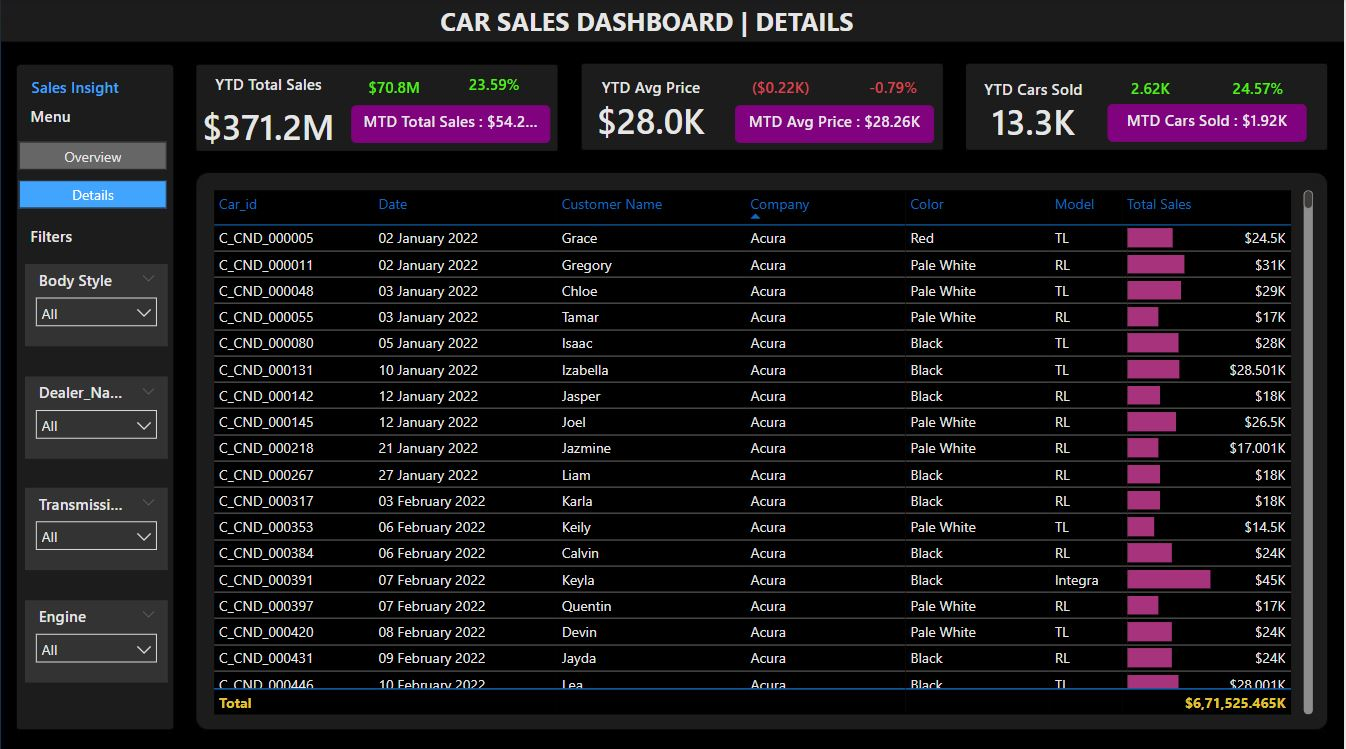

What the dashboard file says about the page in this screenshot:
{"tool":"powerbi","page":{"name":"Details","canvas":[1280,720],"ordinal":1},"visuals":[{"type":"card","title":"YTD Total Sales","fields":{"Values":["car_data.YTD Total Sales"]},"box":[172.9,70,166,83.7],"z":0},{"type":"card","fields":{"Values":["car_data.Sales Difference"]},"box":[334.8,68.6,82.3,34.3],"z":1000},{"type":"card","fields":{"Values":["car_data.YOY Sales Growth"]},"box":[429.5,67.2,82.3,34.3],"z":2000},{"type":"card","fields":{"Values":["car_data.MTD KPI"]},"box":[334.8,101.5,189.4,35.7],"z":3000},{"type":"card","title":"YTD Avg Price","fields":{"Values":["car_data.YTD Avg Price"]},"box":[536.5,74.1,166,64.5],"z":4000},{"type":"card","fields":{"Values":["car_data.Avg Price Difference"]},"box":[702.6,68.6,82.3,34.3],"z":5000},{"type":"card","fields":{"Values":["car_data.YOY Avg Price Growth"]},"box":[809.6,68.6,82.3,34.3],"z":6000},{"type":"card","fields":{"Values":["car_data.MTD Avg Price KPI"]},"box":[699.8,101.5,189.4,35.7],"z":7000},{"type":"card","title":"YTD Cars Sold","fields":{"Values":["car_data.YTD Cars Sold"]},"box":[901.5,75.5,166,64.5],"z":8000},{"type":"card","fields":{"Values":["car_data.Cars Sold Difference"]},"box":[1055.2,70,82.3,34.3],"z":9000},{"type":"card","fields":{"Values":["car_data.YOY Cars Sold Growth"]},"box":[1156.8,70,82.3,34.3],"z":10000},{"type":"card","fields":{"Values":["car_data.MTD Cars Sold KPI"]},"box":[1055.2,100.2,189.4,35.7],"z":11000},{"type":"textbox","box":[414.4,0,450.1,46.7],"z":12000},{"type":"slicer","fields":{"Values":["car_data.Body Style"]},"box":[23.3,252.5,135.8,78.2],"z":13000},{"type":"slicer","fields":{"Values":["car_data.Dealer_Name"]},"box":[23.3,359.5,135.8,78.2],"z":14000},{"type":"slicer","fields":{"Values":["car_data.Transmission"]},"box":[23.3,465.2,135.8,78.2],"z":15000},{"type":"slicer","fields":{"Values":["car_data.Engine"]},"box":[23.3,572.2,135.8,78.2],"z":16000},{"type":"textbox","title":"Filters","box":[23.3,215.4,53.5,24.7],"z":17000},{"type":"tableEx","fields":{"Values":["car_data.Car_id","car_data.Date","car_data.Customer Name","car_data.Company","car_data.Color","car_data.Model","car_data.Price ($)"]},"box":[197.6,177,1058,509.1],"z":18000},{"type":"textbox","title":"Sales Insight","box":[24.7,74.1,105.7,26.1],"z":18001},{"type":"textbox","title":"Menu","box":[23.3,101.5,59,24.7],"z":18002},{"type":"pageNavigator","box":[17.8,135.8,141.3,65.9],"z":18003}]}

Visuals, with their boxes in screenshot pixels (x1, y1, x2, y2), scaled from the page's 1280x720 canvas onto the 1346x749 screenshot:
"YTD Total Sales" card: (x1=182, y1=73, x2=356, y2=160)
card - car_data.Sales Difference: (x1=352, y1=71, x2=439, y2=107)
card - car_data.YOY Sales Growth: (x1=452, y1=70, x2=538, y2=106)
card - car_data.MTD KPI: (x1=352, y1=106, x2=551, y2=143)
"YTD Avg Price" card: (x1=564, y1=77, x2=739, y2=144)
card - car_data.Avg Price Difference: (x1=739, y1=71, x2=825, y2=107)
card - car_data.YOY Avg Price Growth: (x1=851, y1=71, x2=938, y2=107)
card - car_data.MTD Avg Price KPI: (x1=736, y1=106, x2=935, y2=143)
"YTD Cars Sold" card: (x1=948, y1=79, x2=1123, y2=146)
card - car_data.Cars Sold Difference: (x1=1110, y1=73, x2=1196, y2=109)
card - car_data.YOY Cars Sold Growth: (x1=1216, y1=73, x2=1303, y2=109)
card - car_data.MTD Cars Sold KPI: (x1=1110, y1=104, x2=1309, y2=141)
textbox: (x1=436, y1=0, x2=909, y2=49)
slicer - car_data.Body Style: (x1=25, y1=263, x2=167, y2=344)
slicer - car_data.Dealer_Name: (x1=25, y1=374, x2=167, y2=455)
slicer - car_data.Transmission: (x1=25, y1=484, x2=167, y2=565)
slicer - car_data.Engine: (x1=25, y1=595, x2=167, y2=677)
"Filters" textbox: (x1=25, y1=224, x2=81, y2=250)
tableEx - car_data.Car_id x car_data.Date: (x1=208, y1=184, x2=1320, y2=714)
"Sales Insight" textbox: (x1=26, y1=77, x2=137, y2=104)
"Menu" textbox: (x1=25, y1=106, x2=87, y2=131)
pageNavigator: (x1=19, y1=141, x2=167, y2=210)
